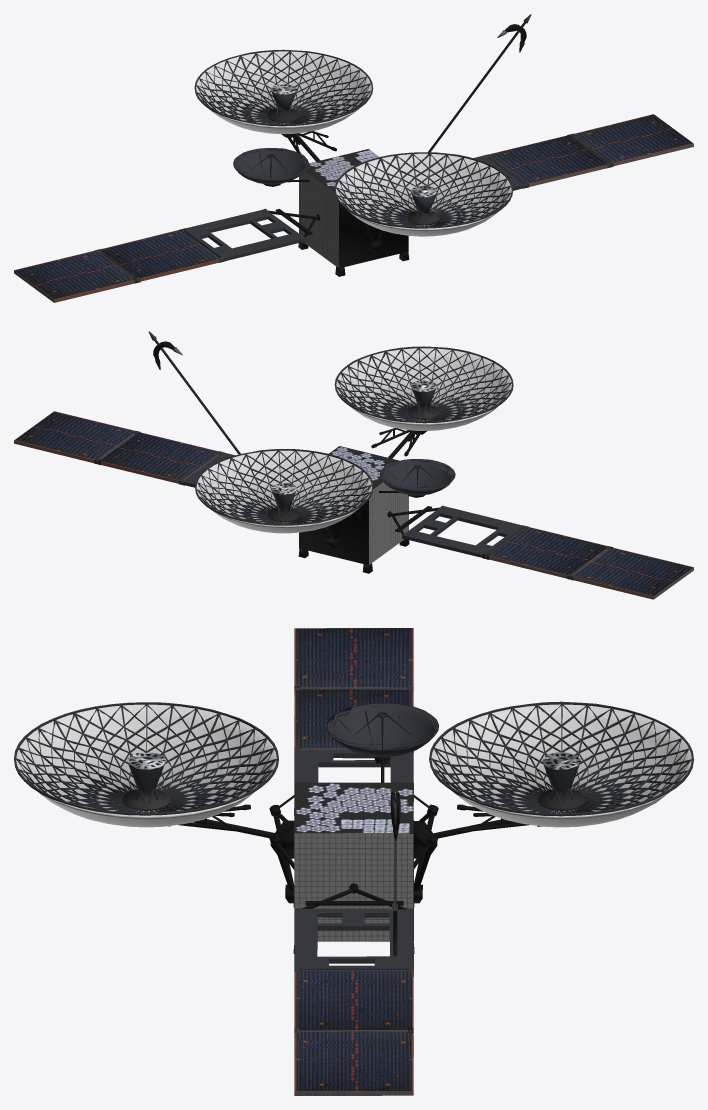
Rendered from tdrs.glb.
3 views of the same model, one above another, from view 1: azimuth 30°, elevation 25°; view 2: azimuth 150°, elevation 25°; view 3: azimuth 270°, elevation 25° (orthographic). The views are drawn at different scales.
Visible parts, largest first — view 1: tex_01, tex_02, black_krinkle, foil_silver; view 2: tex_01, tex_02, black_krinkle, foil_silver; view 3: tex_01, tex_02, black_krinkle, foil_silver.
Boxes of the visible parts, x1,y1,x2,y2 form: tex_01: (14, 49, 693, 302); tex_02: (196, 51, 511, 236); black_krinkle: (263, 24, 526, 276); foil_silver: (94, 14, 613, 283); tex_01: (14, 346, 693, 599); tex_02: (196, 348, 511, 533); black_krinkle: (153, 341, 439, 573); foil_silver: (94, 331, 613, 580); tex_01: (14, 628, 693, 1095); tex_02: (16, 704, 691, 827); black_krinkle: (168, 756, 541, 953); foil_silver: (122, 686, 585, 1037).
Size of the model in its own units: 21.12 by 5.76 by 13.11.
Materials: 4 (3 with a texture image).
